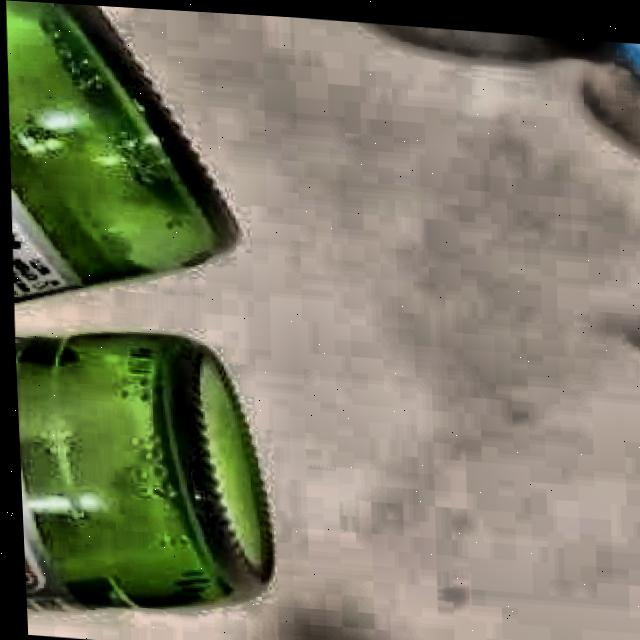glass: (6, 0, 232, 283)
